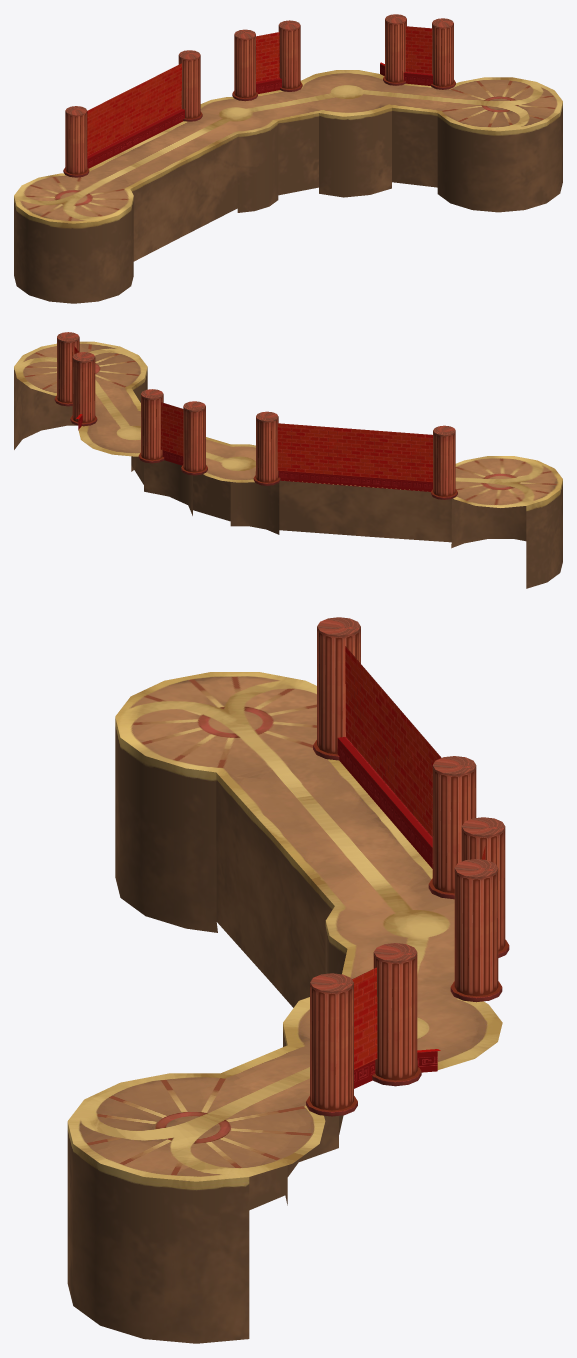
File: Aries_std_Room.fbx
The picture shows the model from 3 angles, top to bottom: view 1: azimuth 30°, elevation 25°; view 2: azimuth 150°, elevation 25°; view 3: azimuth 270°, elevation 25°; orthographic projection. The views are drawn at different scales.
Parts seen in each view (by area): view 1: Floor, Aries_std_Wall, Column7, Column8, Column11, Column9, Column10, Column2; view 2: Floor, Aries_std_Wall, Column10, Column7, Column8, Column2, Column9, Column11; view 3: Floor, Aries_std_Wall, Column9, Column11, Column10, Column2, Column7, Column8.
Boxes of the visible parts, x1,y1,x2,y2 form: Floor: (14,70,562,303); Aries_std_Wall: (87,26,432,168); Column7: (63,106,89,177); Column8: (232,29,257,101); Column11: (431,18,455,89); Column9: (278,20,302,91); Column10: (383,14,406,85); Column2: (178,50,202,121); Floor: (14,341,562,588); Aries_std_Wall: (74,346,432,491); Column10: (70,352,97,426); Column7: (431,425,457,499); Column8: (181,401,207,475); Column2: (253,411,280,485); Column9: (138,389,164,463); Column11: (54,332,79,406); Floor: (67,672,502,1343); Aries_std_Wall: (337,646,485,1088); Column9: (450,859,502,1002); Column11: (306,973,357,1116); Column10: (372,943,421,1086); Column2: (428,756,476,899); Column7: (313,617,360,760); Column8: (461,817,509,957).
Bounding box in the file's own units: 4825 × 1260 × 1768.
